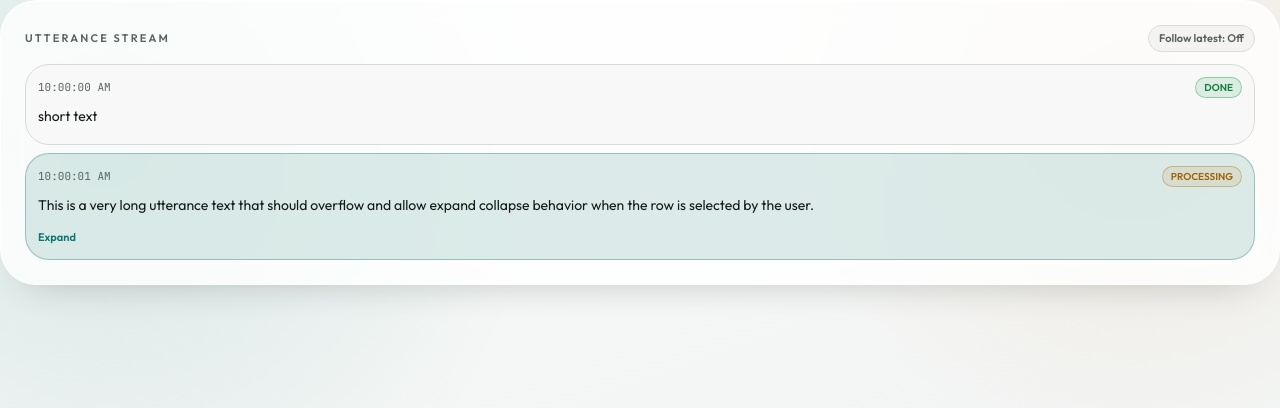
Test: UtteranceStreamPanel › supports expand and collapse for long transcript rows
Click the button with aria-label "expand u-2" at (57, 237), box [38,228,76,245]
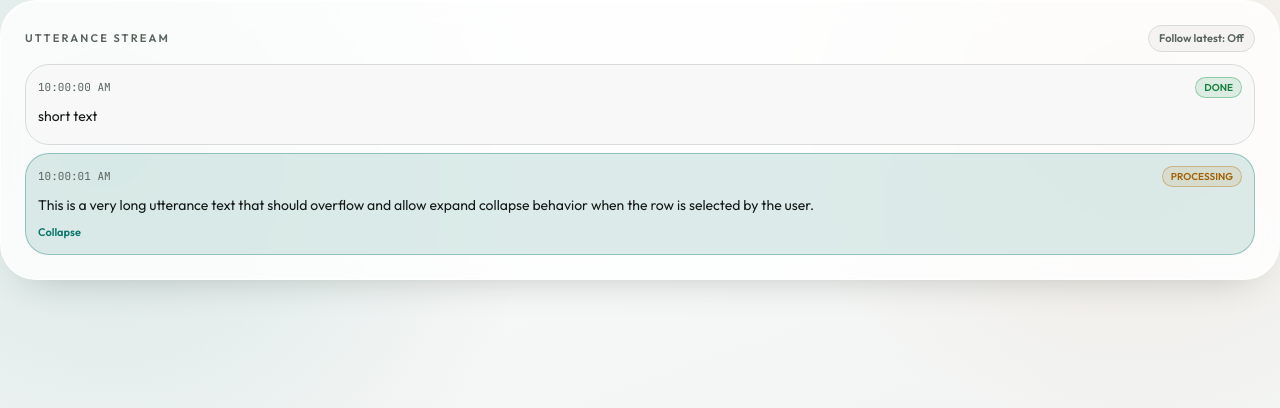
Now the button with aria-label "collapse u-2" is shown, box [38,224,81,240]
